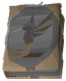birdbook: (1, 1, 66, 81)
